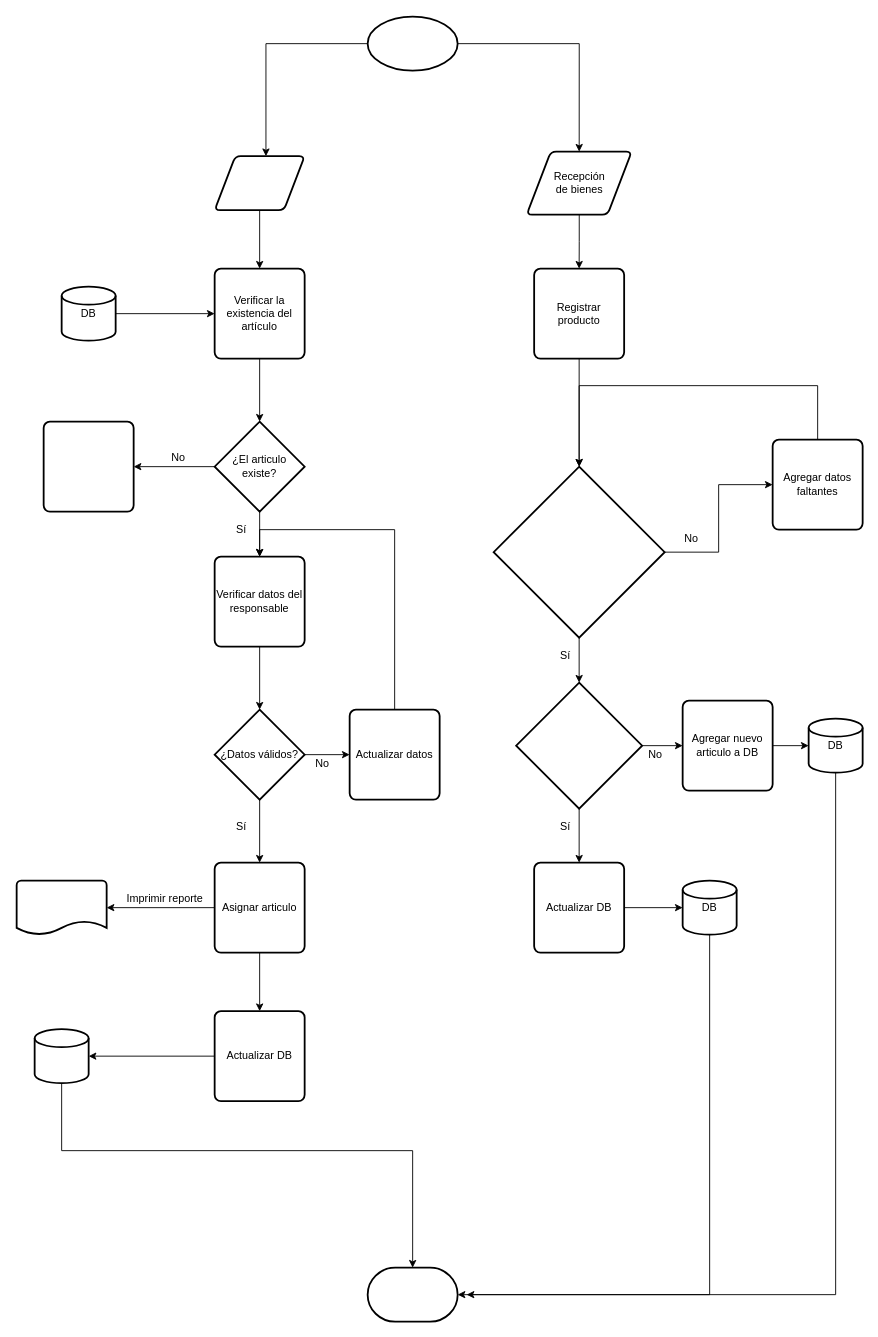
Some shapes in this 878 by 1337 pixel diagram are drawn without their labels. Here are the shapes that lost their labels. From the top down, the box of each, then its label:
(366, 15, 458, 71): Inicio
(213, 155, 305, 211): Asignación de bienes
(42, 420, 134, 512): Realizar reporte del producto faltante
(492, 465, 665, 638): ¿Se han registrado los datos necesarios del articulo?
(515, 681, 643, 809): ¿Hay más articulos del mismo?
(15, 879, 107, 935): Reporte
(366, 1266, 458, 1322): Fin
